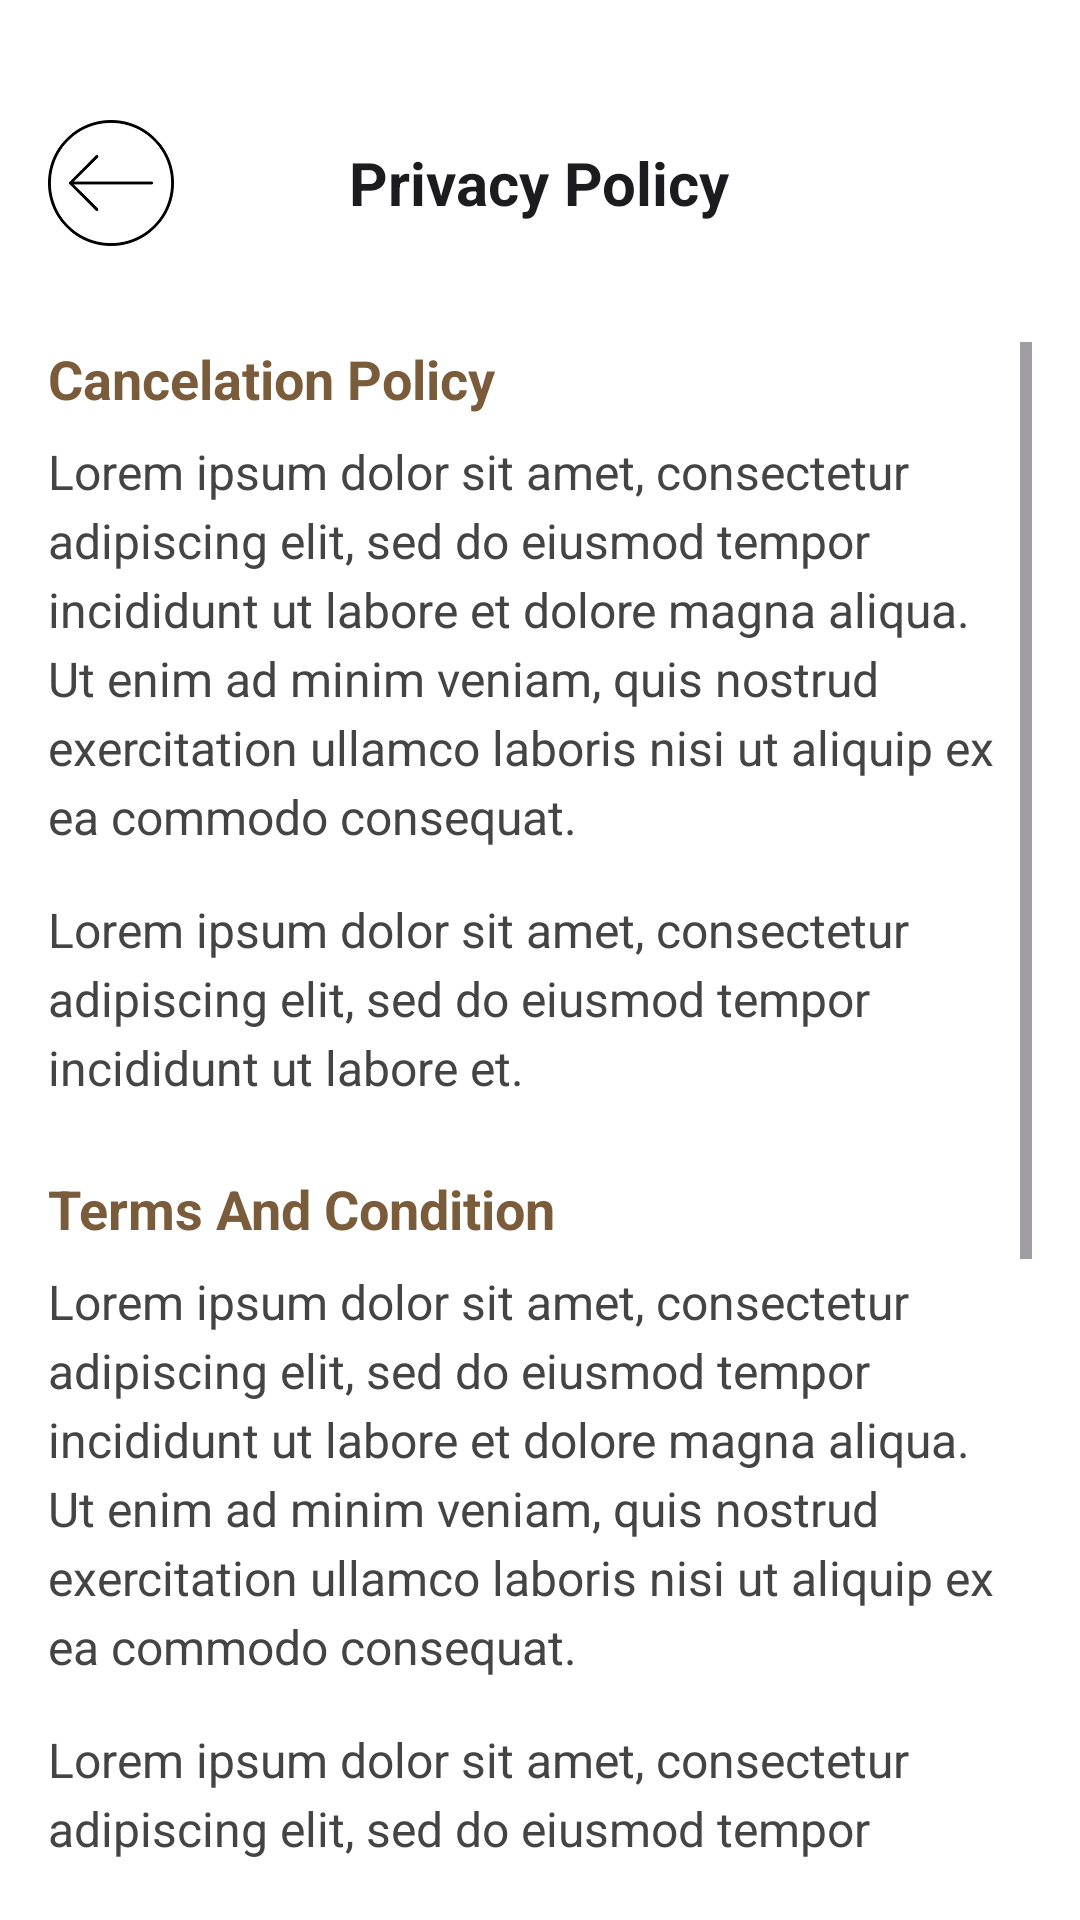

Named icons in this screenshot (1080×1920) and their bounding boxes, [x1, y1, x2, y2]:
back: [48, 120, 174, 246]
